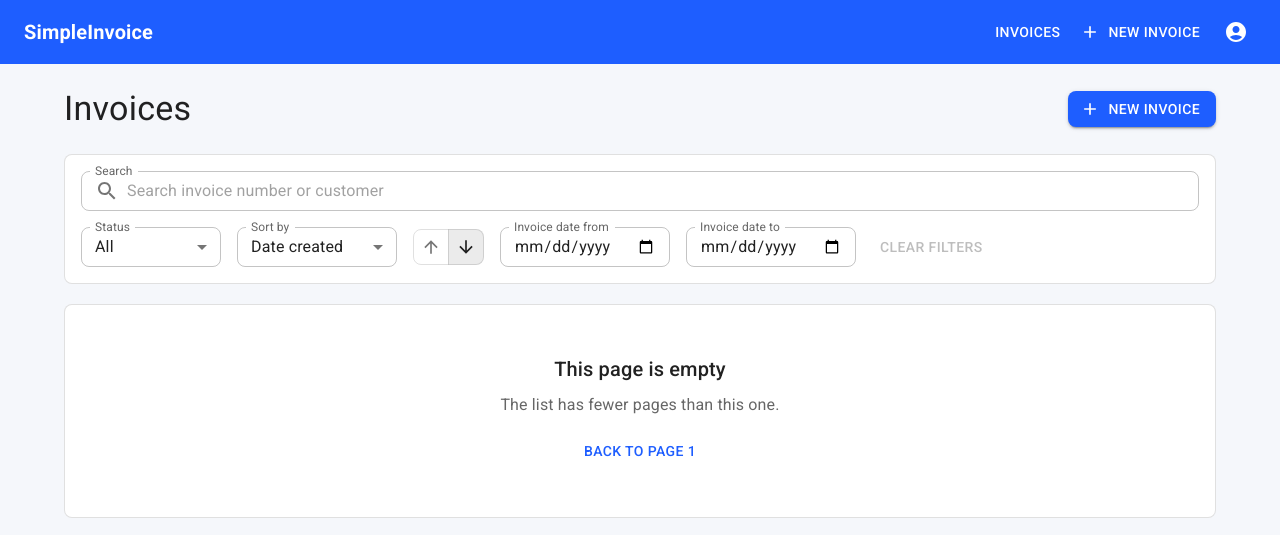
Test: InvoiceListPage › leads back to page 1 from a page past the end
Expected: the text "This page is empty" is shown, left=554, top=353, right=726, bottom=385
Step 1. Click the button "Back to page 1" → (640, 451), box left=576, top=433, right=704, bottom=470
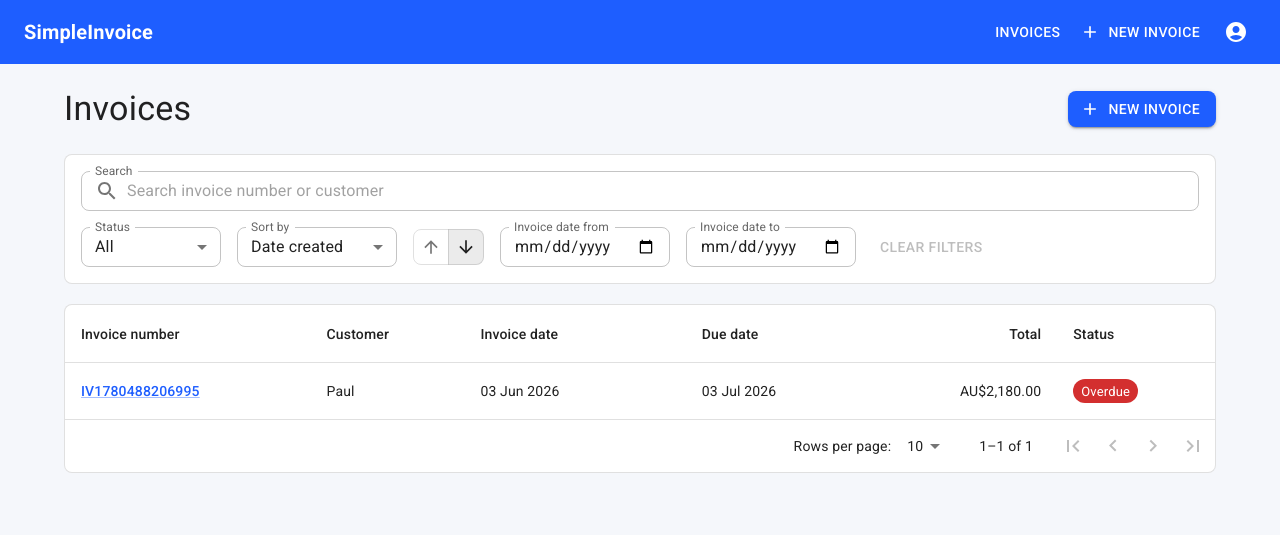
Result: the link "IV1780488206995" is shown at left=81, top=383, right=200, bottom=399
